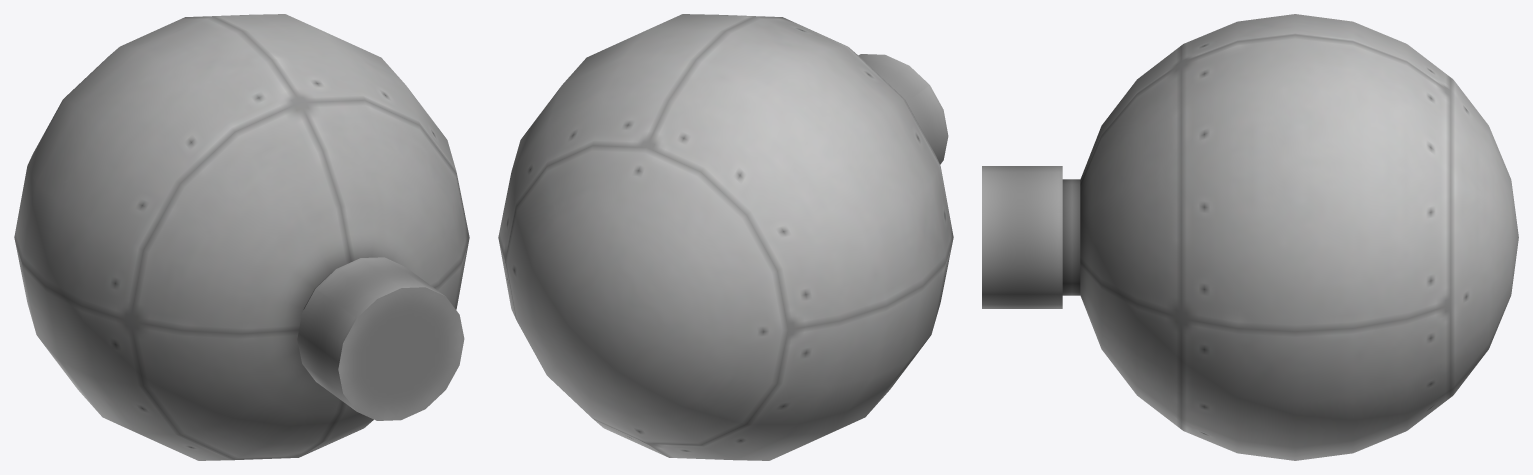
Rendered from Alniyat_MonoSphere_1.obj.
3 renders of one model, left to right at view 1: azimuth 30°, elevation 25°; view 2: azimuth 150°, elevation 25°; view 3: azimuth 270°, elevation 25°, orthographic.
Visible parts, largest first — view 1: Alniyat_MonoSphere_1; view 2: Alniyat_MonoSphere_1; view 3: Alniyat_MonoSphere_1.
Part boxes in pixels (bbox=[...]): Alniyat_MonoSphere_1: bbox=[14, 14, 469, 460]; Alniyat_MonoSphere_1: bbox=[498, 14, 953, 460]; Alniyat_MonoSphere_1: bbox=[982, 14, 1518, 460].
Size of the model in its own units: 0.25 by 0.25 by 0.3.
